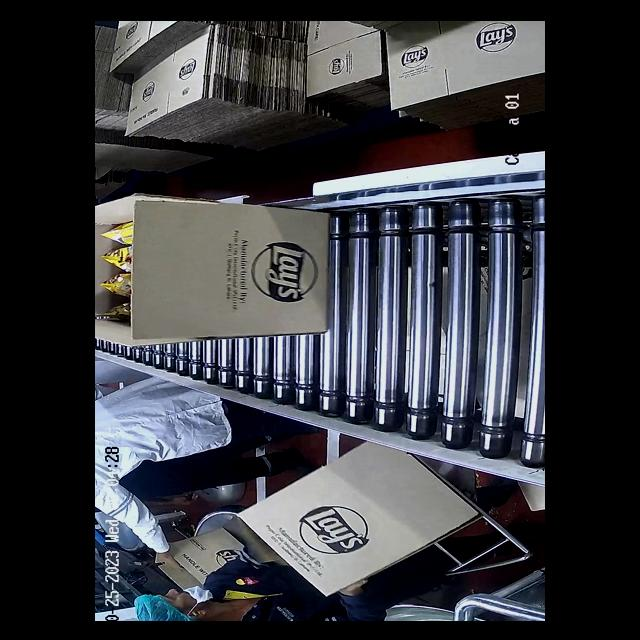salted: (95, 227, 141, 318)
